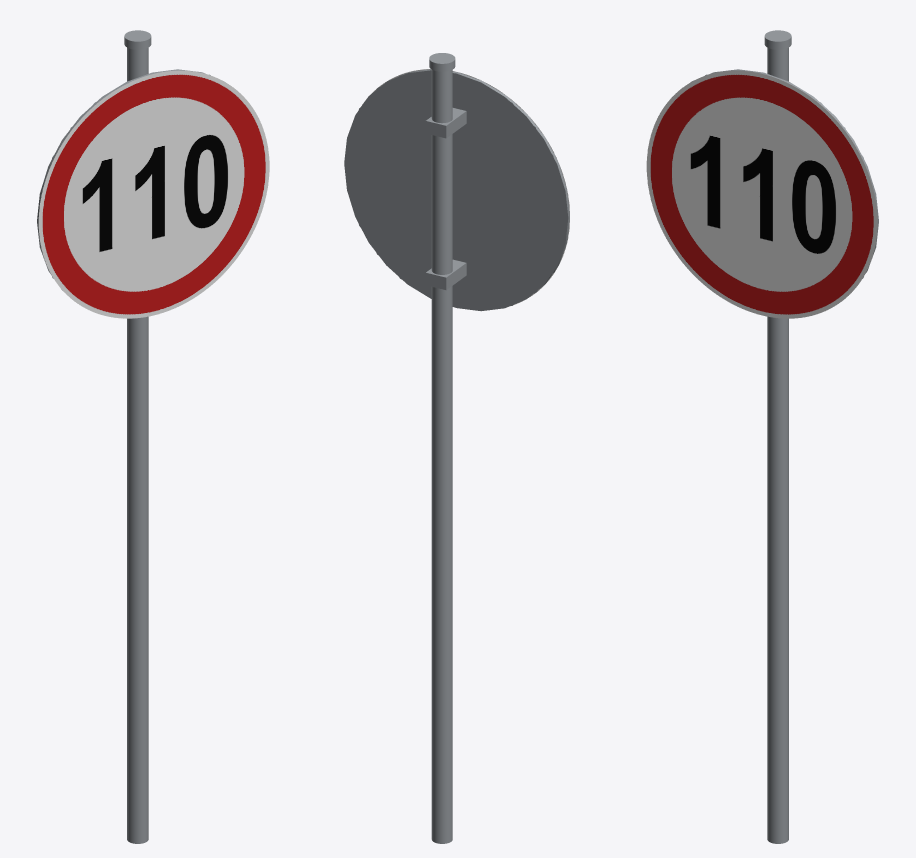
The model's file is sign_speed110kph.dae.
3 renders of one model, left to right at view 1: azimuth 30°, elevation 25°; view 2: azimuth 150°, elevation 25°; view 3: azimuth 330°, elevation 25°, orthographic. The views are drawn at different scales.
Visible parts, largest first — view 1: sign128, sign48, sign4; view 2: sign128, sign48, sign4; view 3: sign128, sign48, sign4.
Part boxes in pixels (box(x1,y1,x2,y2)): sign128: box(37, 30, 269, 843); sign48: box(52, 30, 210, 843); sign4: box(70, 30, 150, 843); sign128: box(344, 53, 569, 843); sign48: box(344, 53, 567, 843); sign4: box(344, 53, 567, 843); sign128: box(646, 30, 878, 843); sign48: box(705, 30, 863, 843); sign4: box(765, 30, 845, 843).
Size of the model in its own units: 0.9 by 0.1275 by 2.47.
Materials: 2 (1 with a texture image).
